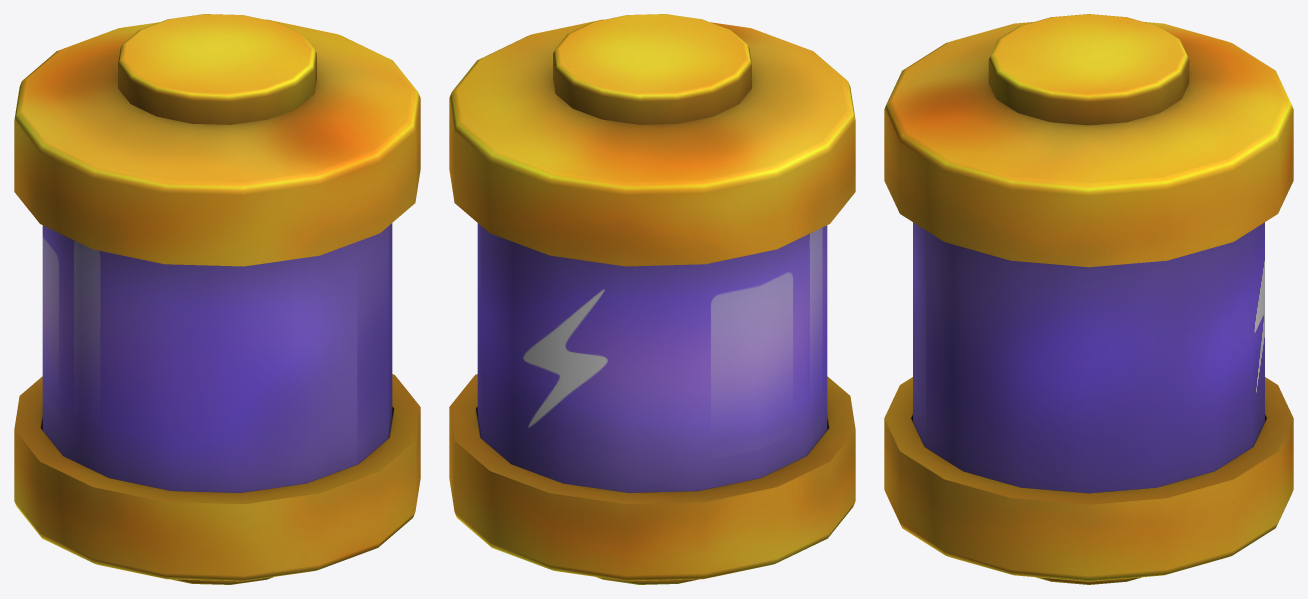
The model's file is Booster.fbx.
3 renders of one model, left to right at view 1: azimuth 30°, elevation 25°; view 2: azimuth 150°, elevation 25°; view 3: azimuth 270°, elevation 25°, orthographic.
Parts seen in each view (by area): view 1: Booster; view 2: Booster; view 3: Booster.
Part boxes in pixels (box(x1,y1,x2,y2)): Booster: box(14, 14, 420, 584); Booster: box(449, 14, 855, 584); Booster: box(884, 14, 1293, 584).
Bounding box in the file's own units: 0.12 × 0.1589 × 0.12.
